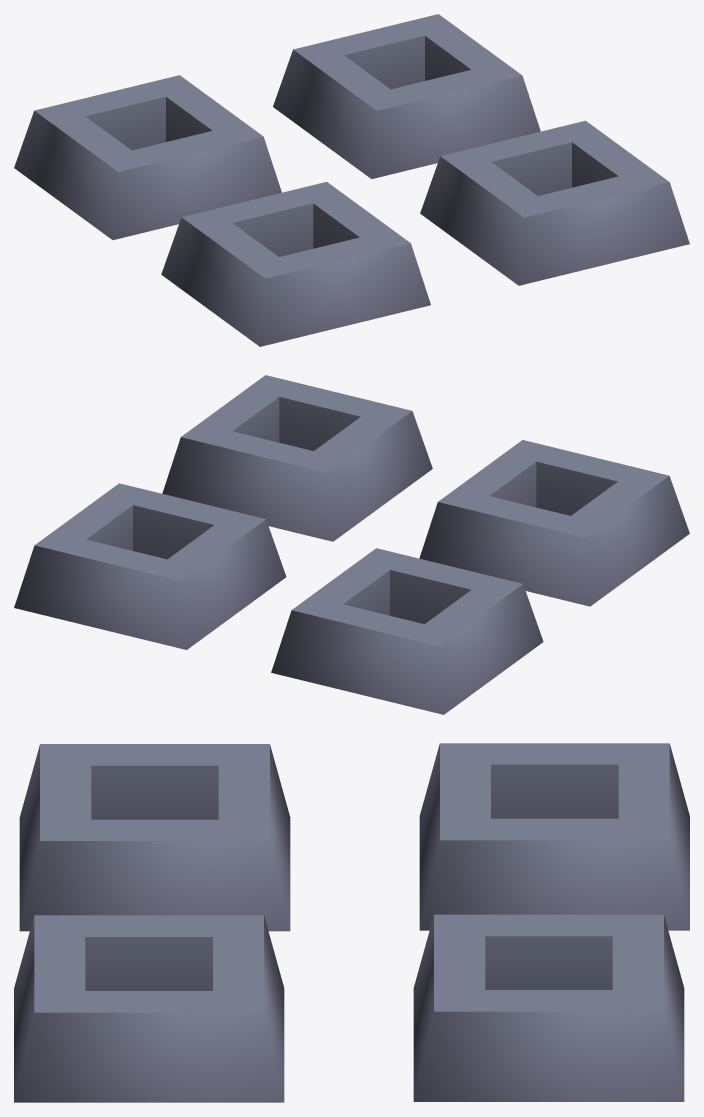
File: n5_n5_n5_trap-spikes_lev5.glb
3 views of the same model, one above another, from view 1: azimuth 30°, elevation 25°; view 2: azimuth 150°, elevation 25°; view 3: azimuth 270°, elevation 25° (orthographic). The views are drawn at different scales.
Visible parts, largest first — view 1: n5_n5_n5_trap-spikes_lev5; view 2: n5_n5_n5_trap-spikes_lev5; view 3: n5_n5_n5_trap-spikes_lev5.
Part boxes in pixels (<box>): n5_n5_n5_trap-spikes_lev5: <box>14,14,689,346</box>; n5_n5_n5_trap-spikes_lev5: <box>14,375,689,714</box>; n5_n5_n5_trap-spikes_lev5: <box>14,743,689,1102</box>.
Size of the model in its own units: 4.11 by 0.5464 by 4.1.
Materials: 1 (1 with a texture image).
